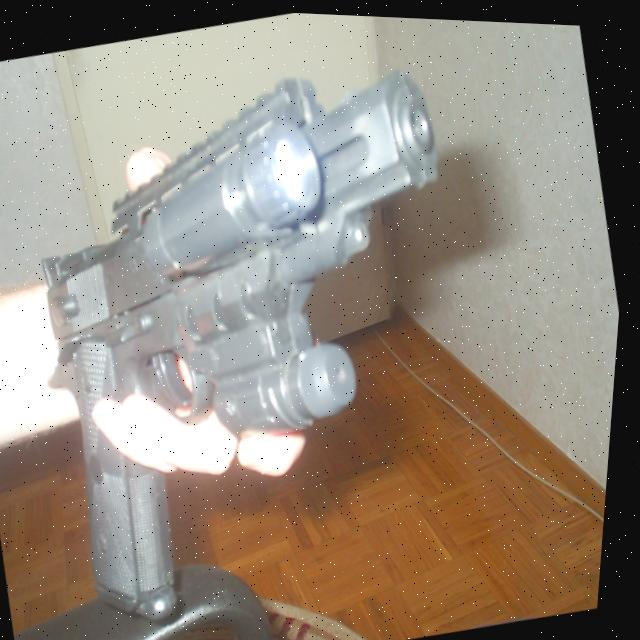pistol: (0, 32, 534, 640)
